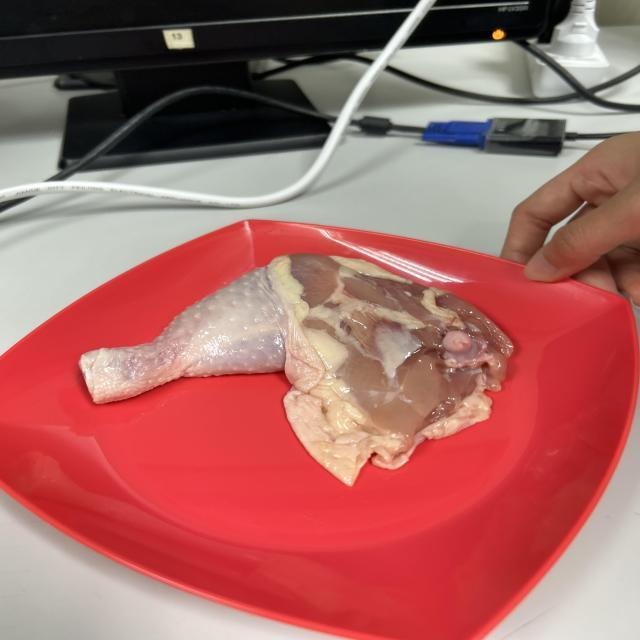quater: (73, 258, 505, 480)
